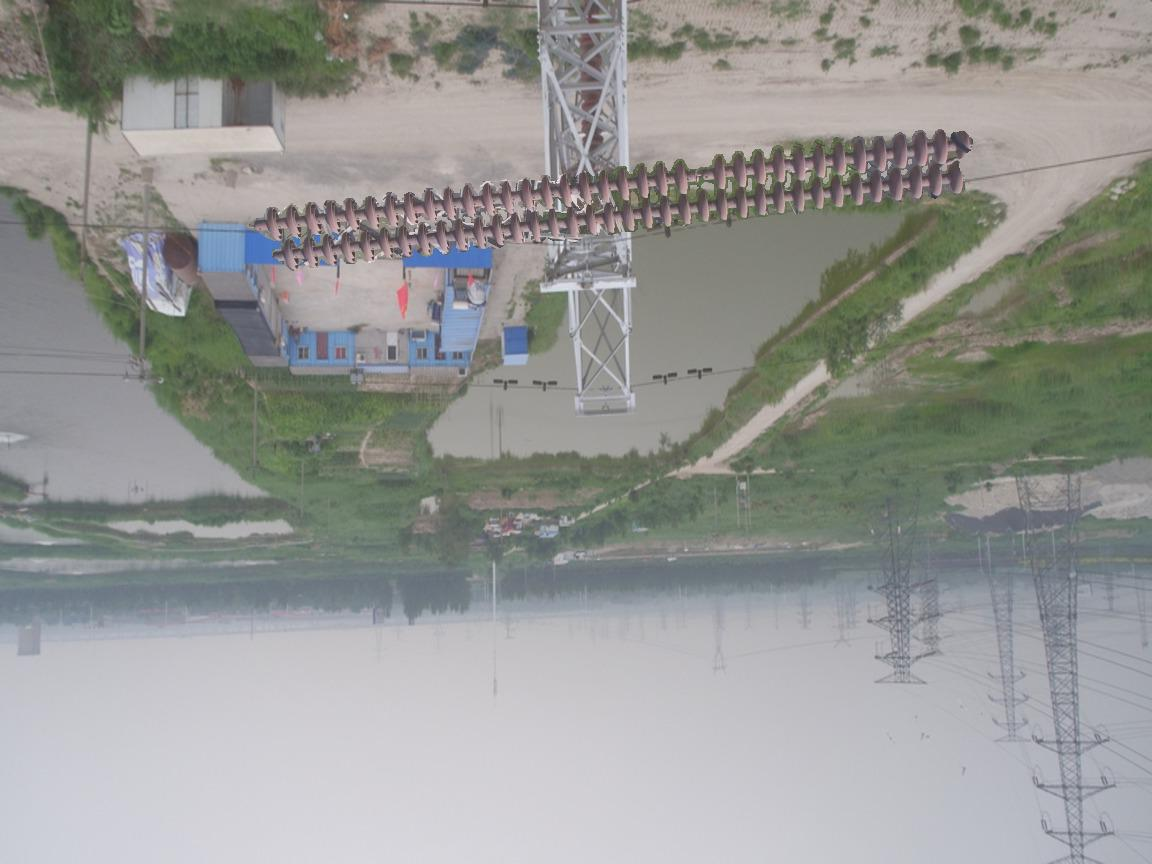insulator: (259, 125, 978, 275), (575, 1, 607, 149)
insulator_stringdrop: (672, 152, 730, 197)
